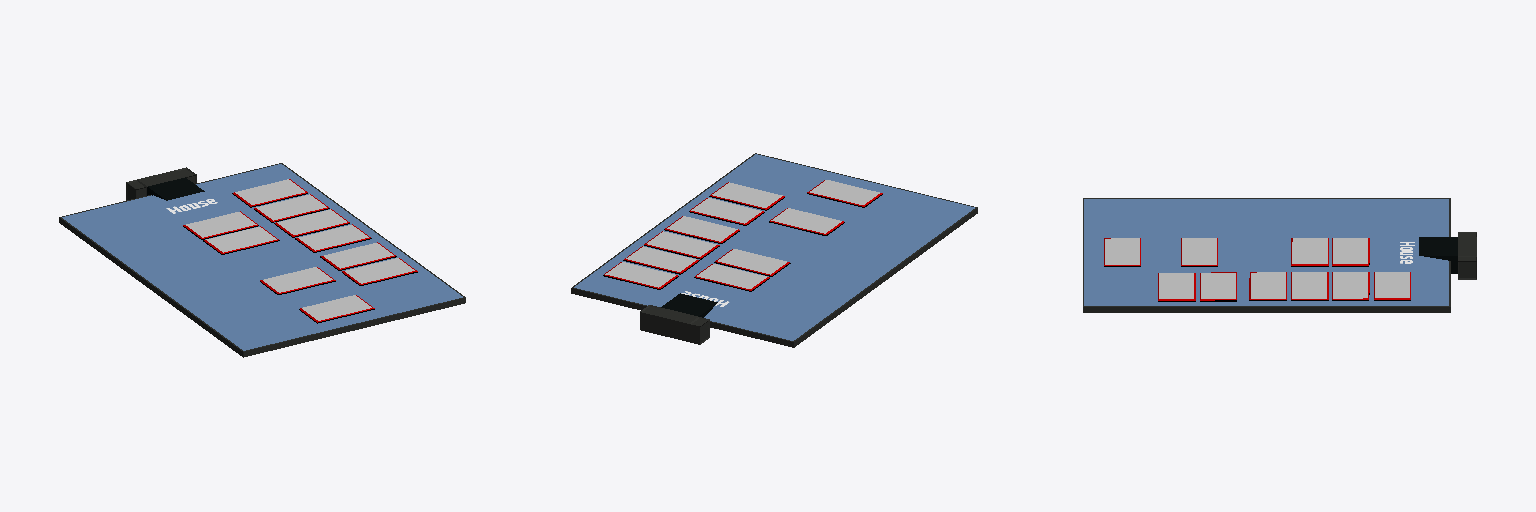
The picture shows the model from 3 angles: view 1: azimuth 30°, elevation 25°; view 2: azimuth 150°, elevation 25°; view 3: azimuth 270°, elevation 25°; orthographic projection.
Parts seen in each view (by area): view 1: clipboard_house; view 2: clipboard_house; view 3: clipboard_house.
Boxes of the visible parts, x1,y1,x2,y2 form: clipboard_house: [59, 163, 465, 357]; clipboard_house: [571, 153, 977, 347]; clipboard_house: [1083, 198, 1476, 312].
Size of the model in its own units: 0.2144 by 0.0169 by 0.3289.
Materials: 34 (1 with a texture image).